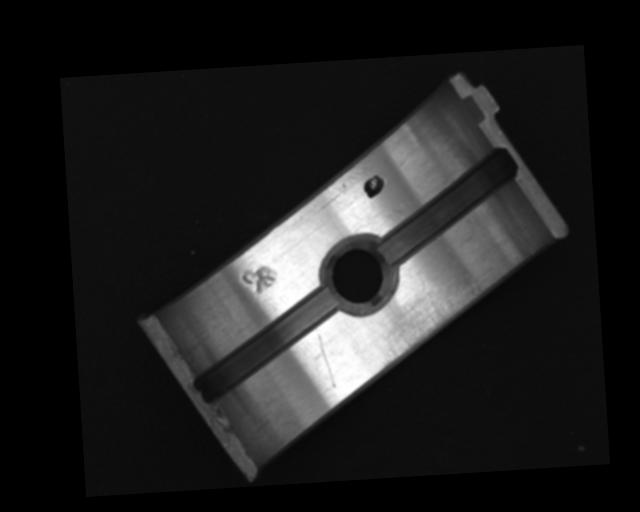blot: (362, 173, 386, 200)
bruise: (240, 264, 278, 298)
gap: (187, 289, 341, 404), (373, 147, 522, 264)
hole: (316, 232, 400, 317)
nick: (314, 327, 335, 388)
scratch: (370, 266, 499, 373)
